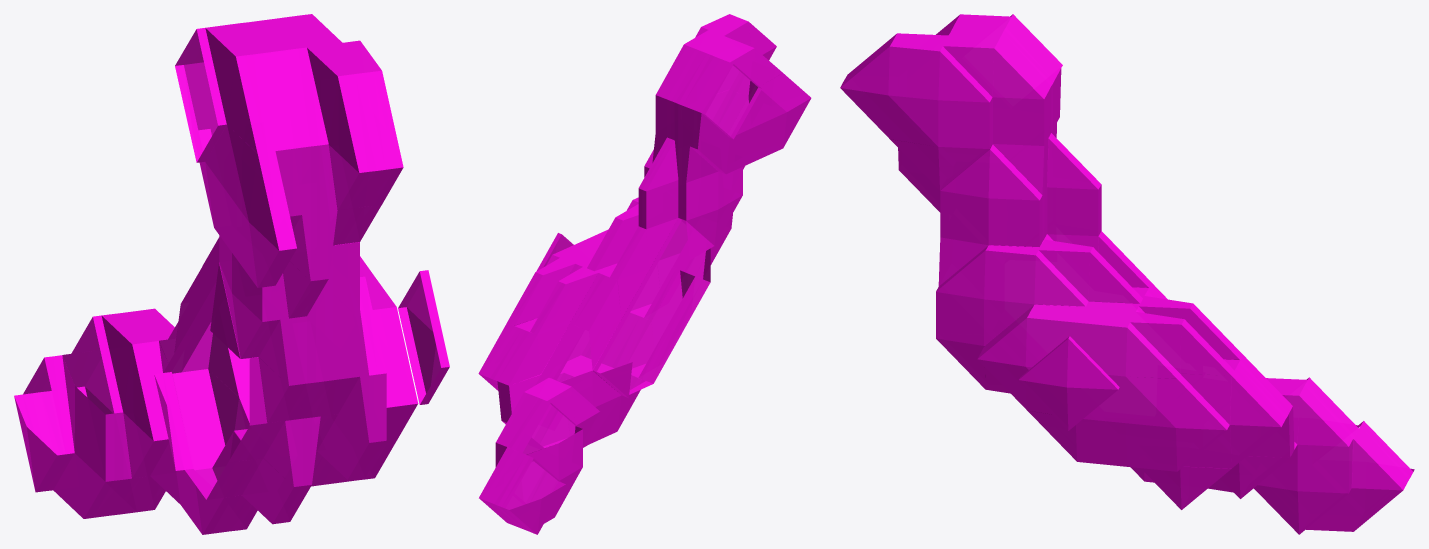
The model's file is SVV_Fragment10.gltf.
3 renders of one model, left to right at view 1: azimuth 30°, elevation 25°; view 2: azimuth 150°, elevation 25°; view 3: azimuth 270°, elevation 25°, orthographic. The views are drawn at different scales.
Parts seen in each view (by area): view 1: Fragment10; view 2: Fragment10; view 3: Fragment10.
Boxes of the visible parts, x1=… form: Fragment10: x1=14, y1=14, x2=449, y2=534; Fragment10: x1=478, y1=14, x2=811, y2=534; Fragment10: x1=840, y1=14, x2=1414, y2=534.
Bounding box in the file's own units: 3219 × 6588 × 7378.
